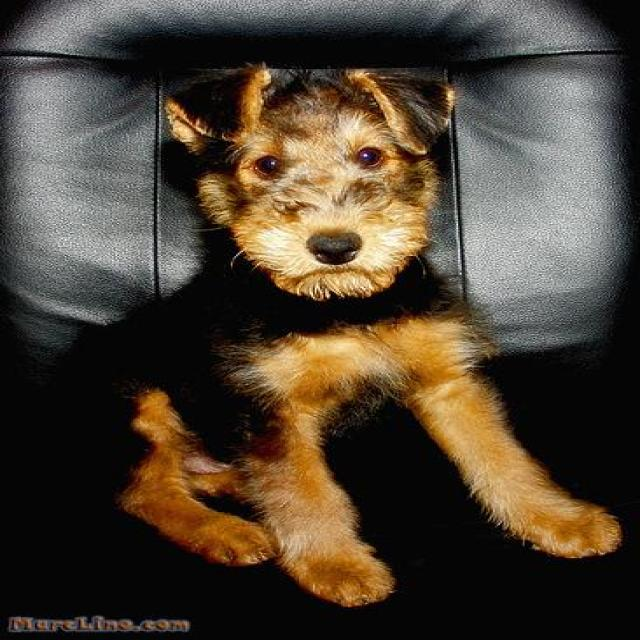airedale: (37, 61, 624, 608)
